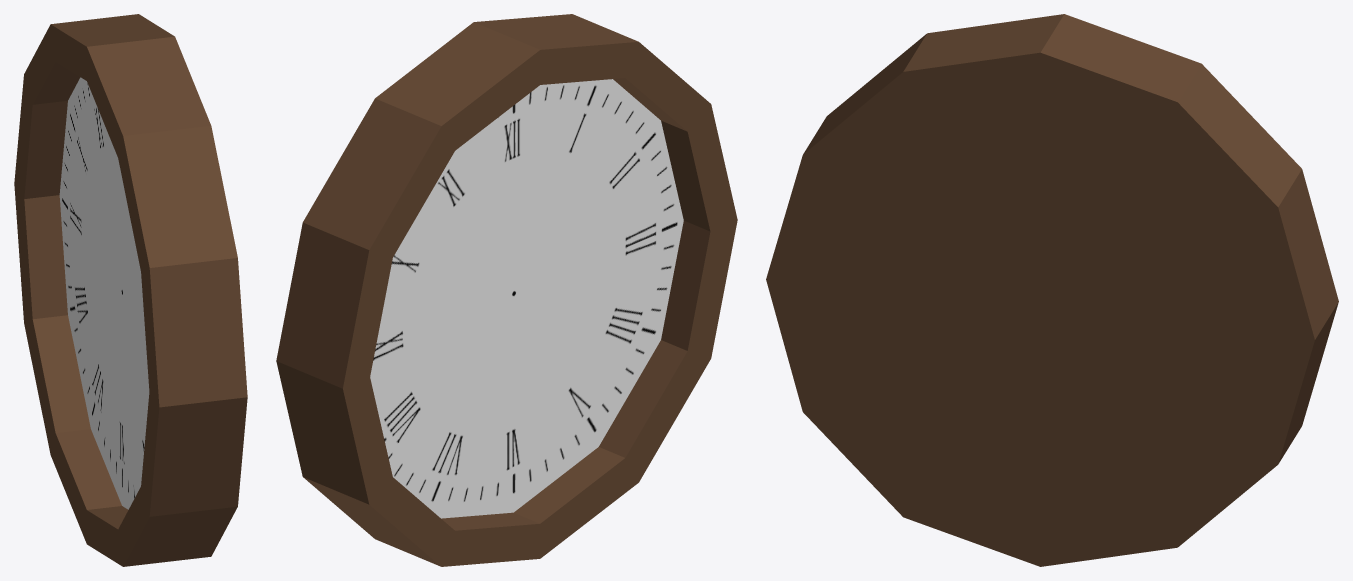
Rendered from clock_face.fbx.
3 renders of one model, left to right at view 1: azimuth 30°, elevation 25°; view 2: azimuth 150°, elevation 25°; view 3: azimuth 270°, elevation 25°, orthographic. The views are drawn at different scales.
Visible parts, largest first — view 1: Clock; view 2: Clock; view 3: Clock.
Part boxes in pixels (box(x1,y1,x2,y2)): Clock: box(14, 14, 247, 566); Clock: box(276, 14, 737, 566); Clock: box(766, 14, 1338, 566).
Bounding box in the file's own units: 1.03 × 2.49 × 2.52.
2 materials, 1 textured.
